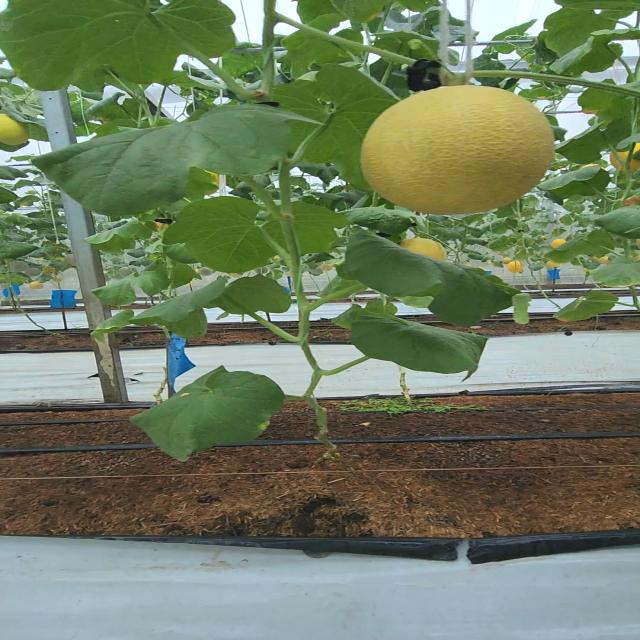Front-melon: (366, 85, 558, 212)
